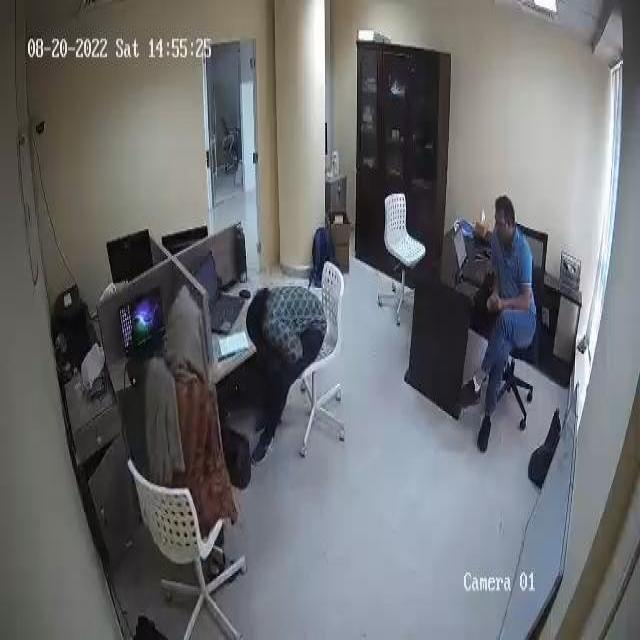bare_hand: (486, 286, 509, 327)
